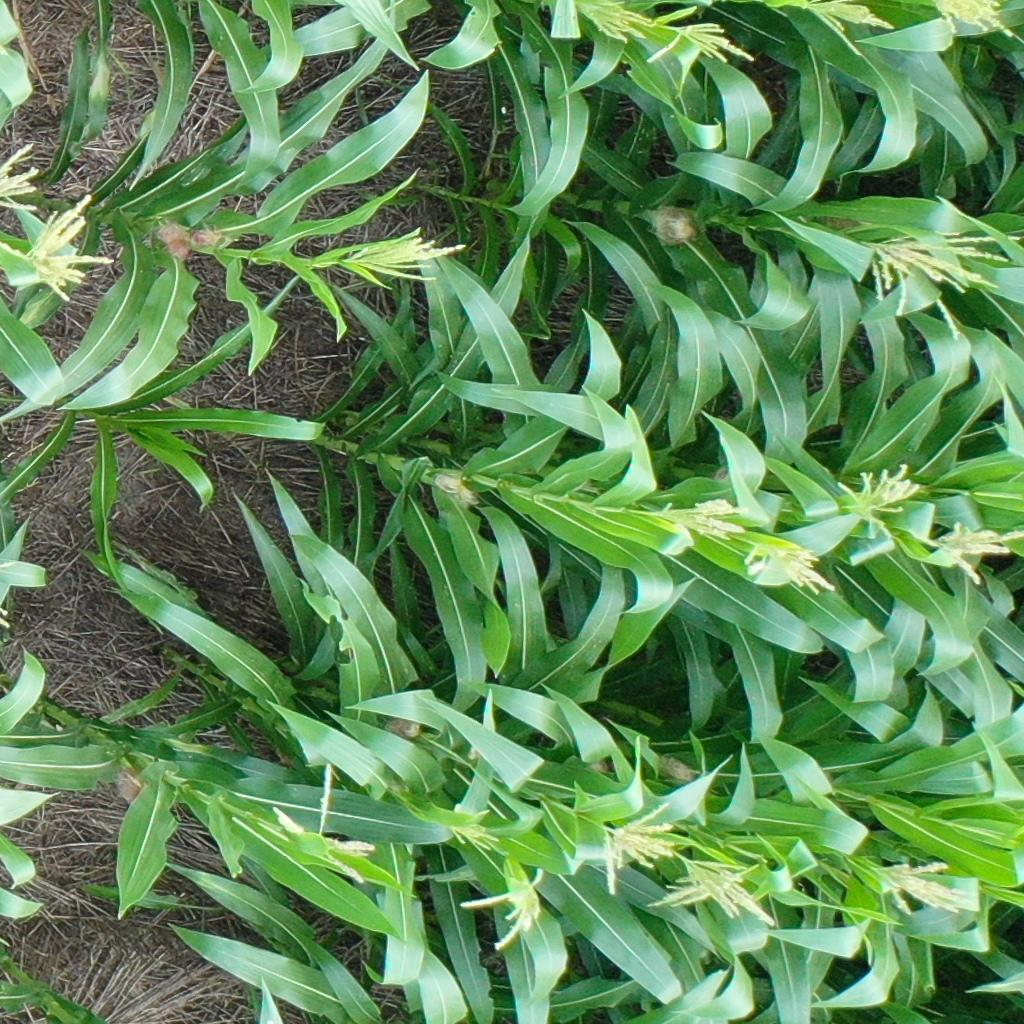Tassel: (856, 221, 1024, 341), (272, 763, 382, 888), (1, 194, 116, 304), (649, 852, 777, 928), (456, 867, 550, 953), (592, 799, 677, 894), (344, 223, 474, 282), (829, 458, 917, 538), (873, 853, 970, 922), (646, 14, 755, 70), (929, 519, 1024, 583), (786, 1, 897, 53), (742, 543, 838, 601), (658, 494, 750, 545), (570, 1, 655, 43), (936, 1, 1019, 42), (447, 796, 501, 857), (1, 140, 46, 213)
